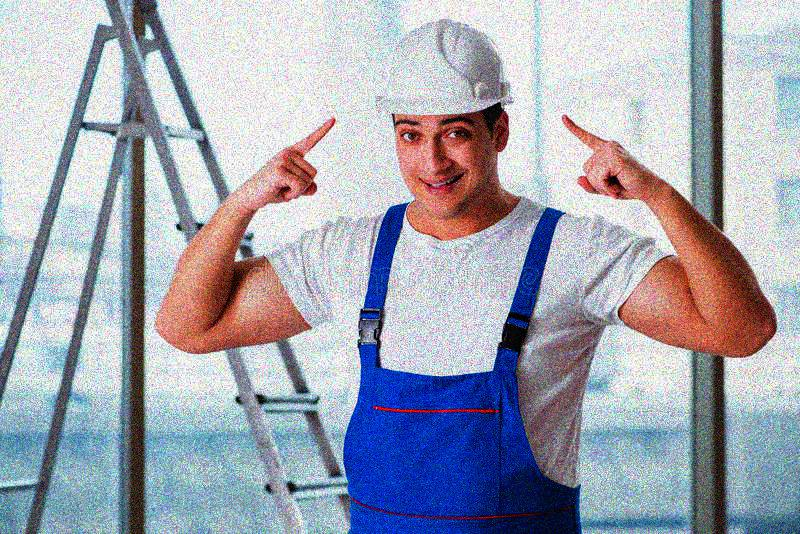helmet: (375, 19, 512, 219)
